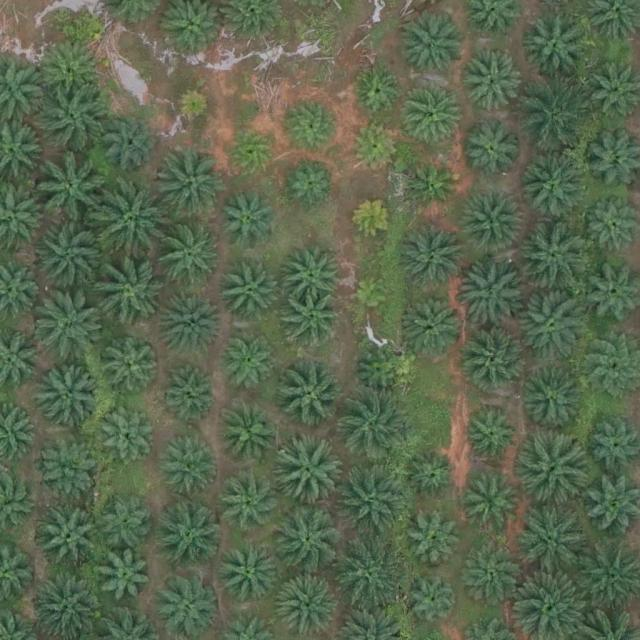Healthy: (520, 219, 591, 290), (275, 359, 346, 430), (519, 9, 590, 80), (519, 293, 589, 364), (518, 505, 588, 576), (459, 262, 530, 332), (398, 221, 468, 292), (342, 390, 412, 461), (340, 466, 410, 537), (334, 540, 404, 611), (271, 439, 342, 509), (273, 505, 343, 576), (93, 256, 163, 327), (35, 221, 105, 292), (34, 295, 104, 366), (520, 86, 590, 157), (95, 188, 166, 258), (37, 156, 107, 227), (519, 430, 589, 500), (156, 148, 226, 218), (41, 83, 111, 153), (522, 368, 585, 431), (219, 262, 282, 325), (219, 402, 282, 465), (220, 475, 283, 538), (160, 224, 223, 287), (459, 123, 522, 186), (399, 84, 462, 147), (460, 191, 522, 254), (468, 331, 530, 394), (406, 294, 468, 357), (281, 244, 343, 307), (279, 574, 342, 636), (215, 189, 277, 252), (218, 544, 280, 607), (159, 433, 221, 496), (158, 507, 220, 570), (156, 575, 218, 638), (101, 333, 163, 396), (39, 367, 101, 430), (41, 510, 103, 573), (464, 46, 526, 109), (400, 16, 462, 79), (40, 39, 102, 102), (158, 296, 220, 358), (36, 437, 98, 499), (525, 155, 587, 217), (465, 410, 520, 465), (465, 547, 520, 602), (408, 516, 463, 571), (406, 575, 461, 630), (354, 347, 409, 402), (287, 294, 342, 349), (221, 338, 276, 393), (162, 366, 217, 421), (224, 125, 279, 180), (286, 99, 341, 154), (286, 156, 341, 211), (348, 119, 403, 174), (353, 63, 408, 118), (405, 156, 460, 211), (107, 114, 162, 169), (468, 482, 522, 537), (405, 452, 459, 507), (100, 408, 154, 463), (100, 496, 154, 551), (98, 551, 152, 606)
Yellow: (351, 195, 398, 242), (354, 275, 393, 315), (172, 88, 212, 127)
